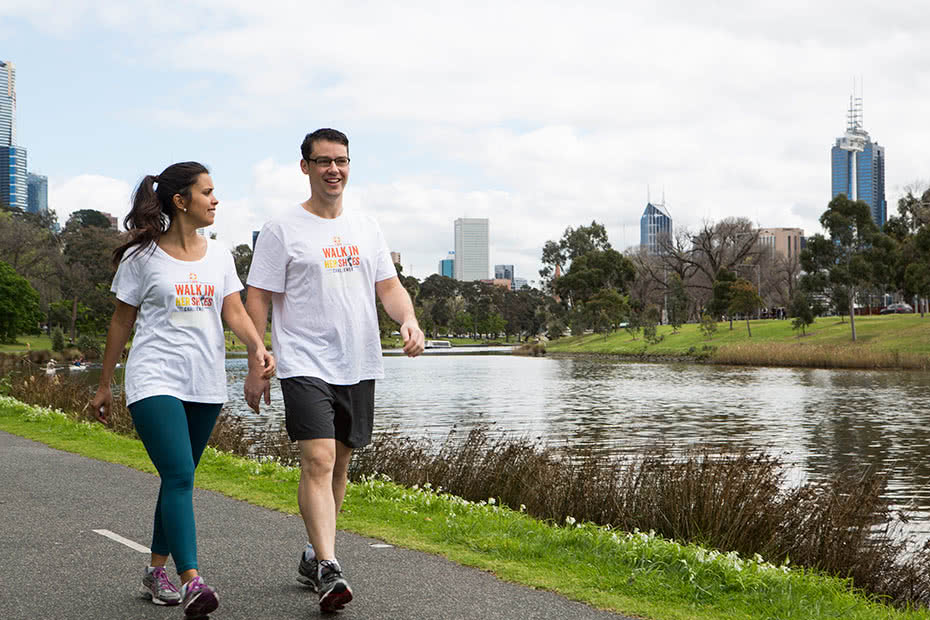feet: (127, 534, 224, 620), (287, 517, 367, 613)
